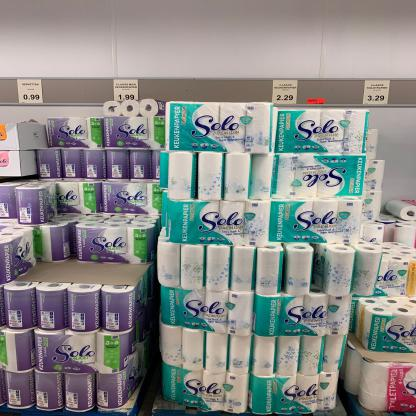prtg: (364, 81, 391, 106), (17, 80, 44, 104), (273, 81, 299, 105), (114, 80, 140, 102)
